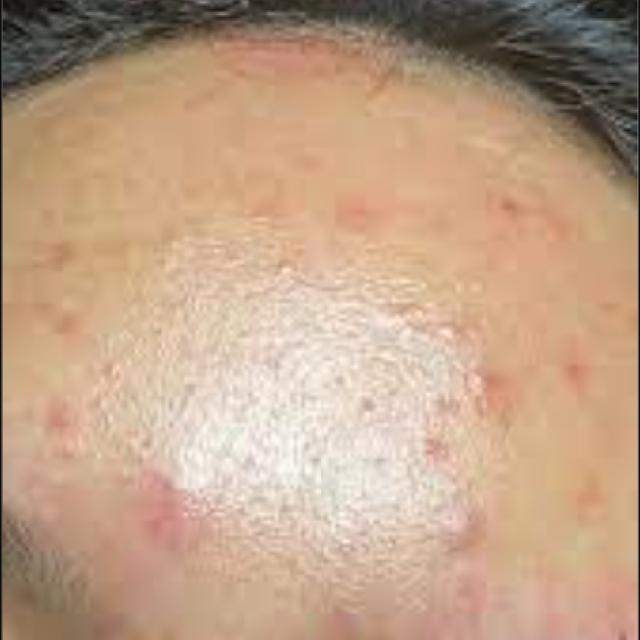fungal: (7, 158, 627, 640)
